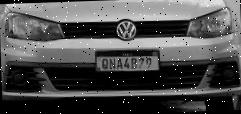placa_mercosul: (94, 50, 158, 72)
